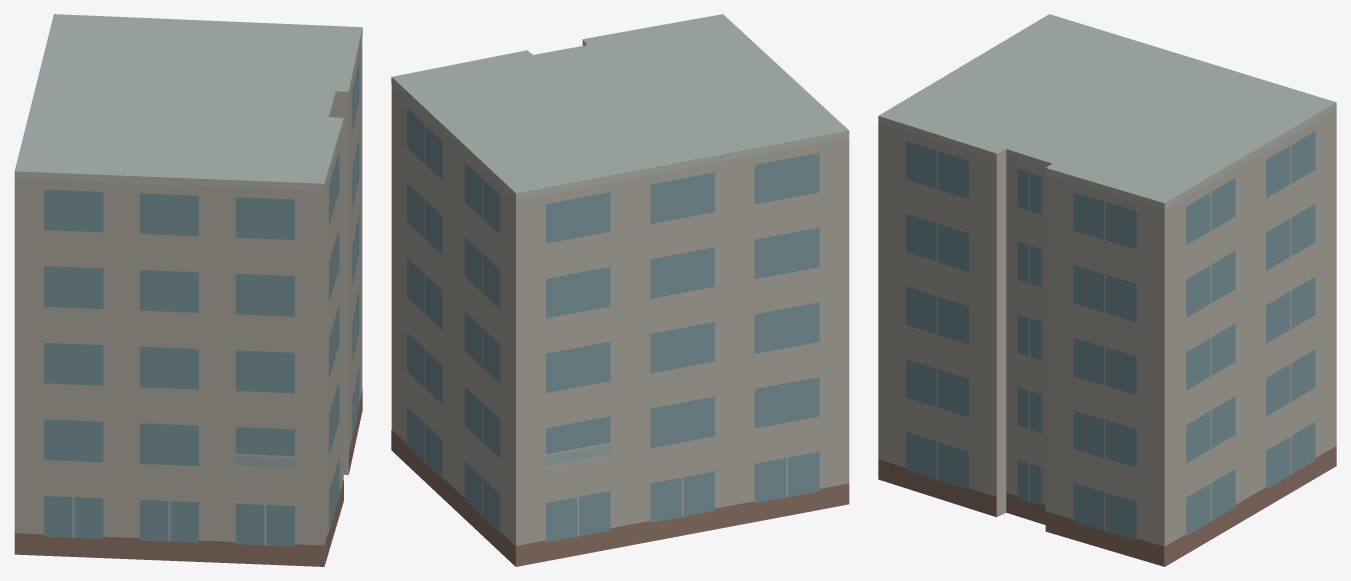
File: survey-upis-32557284.glb
3 views of the same model, side by side, from view 1: azimuth 30°, elevation 25°; view 2: azimuth 150°, elevation 25°; view 3: azimuth 270°, elevation 25° (orthographic). The views are drawn at different scales.
Visible parts, largest first — view 1: survey-upis-32557284.tmp; view 2: survey-upis-32557284.tmp; view 3: survey-upis-32557284.tmp.
Boxes of the visible parts, box(x1,y1,x2,y2) form: survey-upis-32557284.tmp: box(14, 14, 362, 566); survey-upis-32557284.tmp: box(391, 14, 849, 566); survey-upis-32557284.tmp: box(878, 14, 1336, 566).
Bounding box in the file's own units: 14.74 × 13.2 × 15.09.
